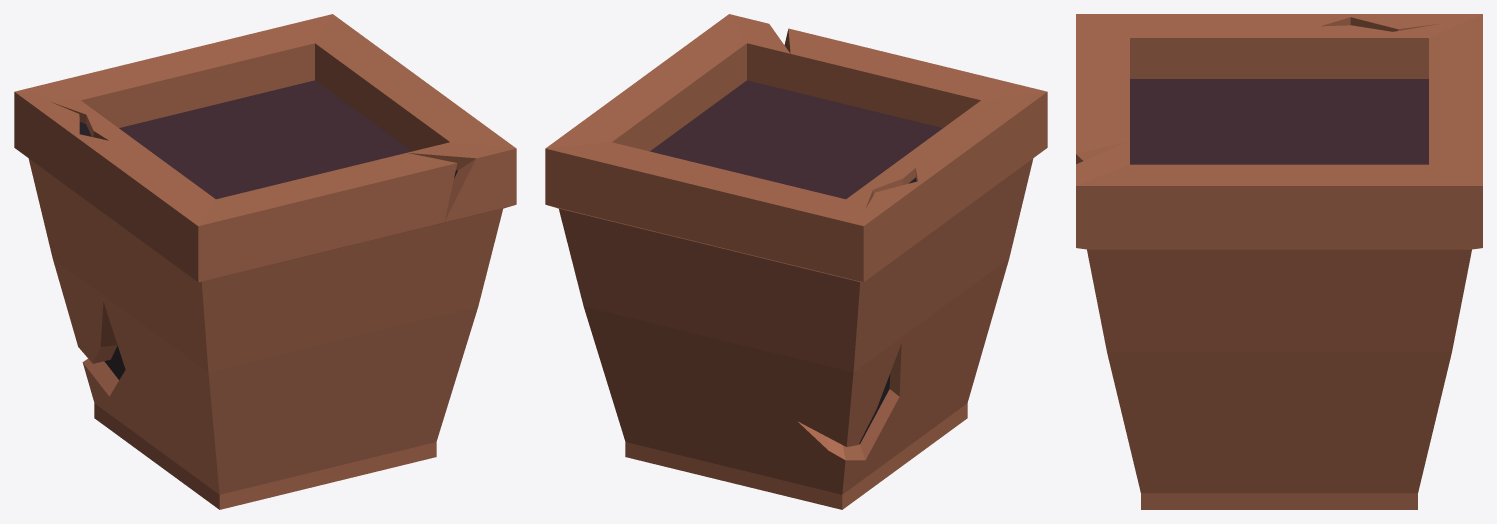
Rendered from pot2.fbx.
3 views of the same model, side by side, from view 1: azimuth 30°, elevation 25°; view 2: azimuth 150°, elevation 25°; view 3: azimuth 270°, elevation 25° (orthographic). The views are drawn at different scales.
Parts seen in each view (by area): view 1: Pot2; view 2: Pot2; view 3: Pot2.
Part boxes in pixels (box(x1,y1,x2,y2)): Pot2: box(14, 14, 516, 509); Pot2: box(545, 14, 1047, 509); Pot2: box(1076, 14, 1482, 509).
Bounding box in the file's own units: 41.72 × 39.76 × 41.72.
